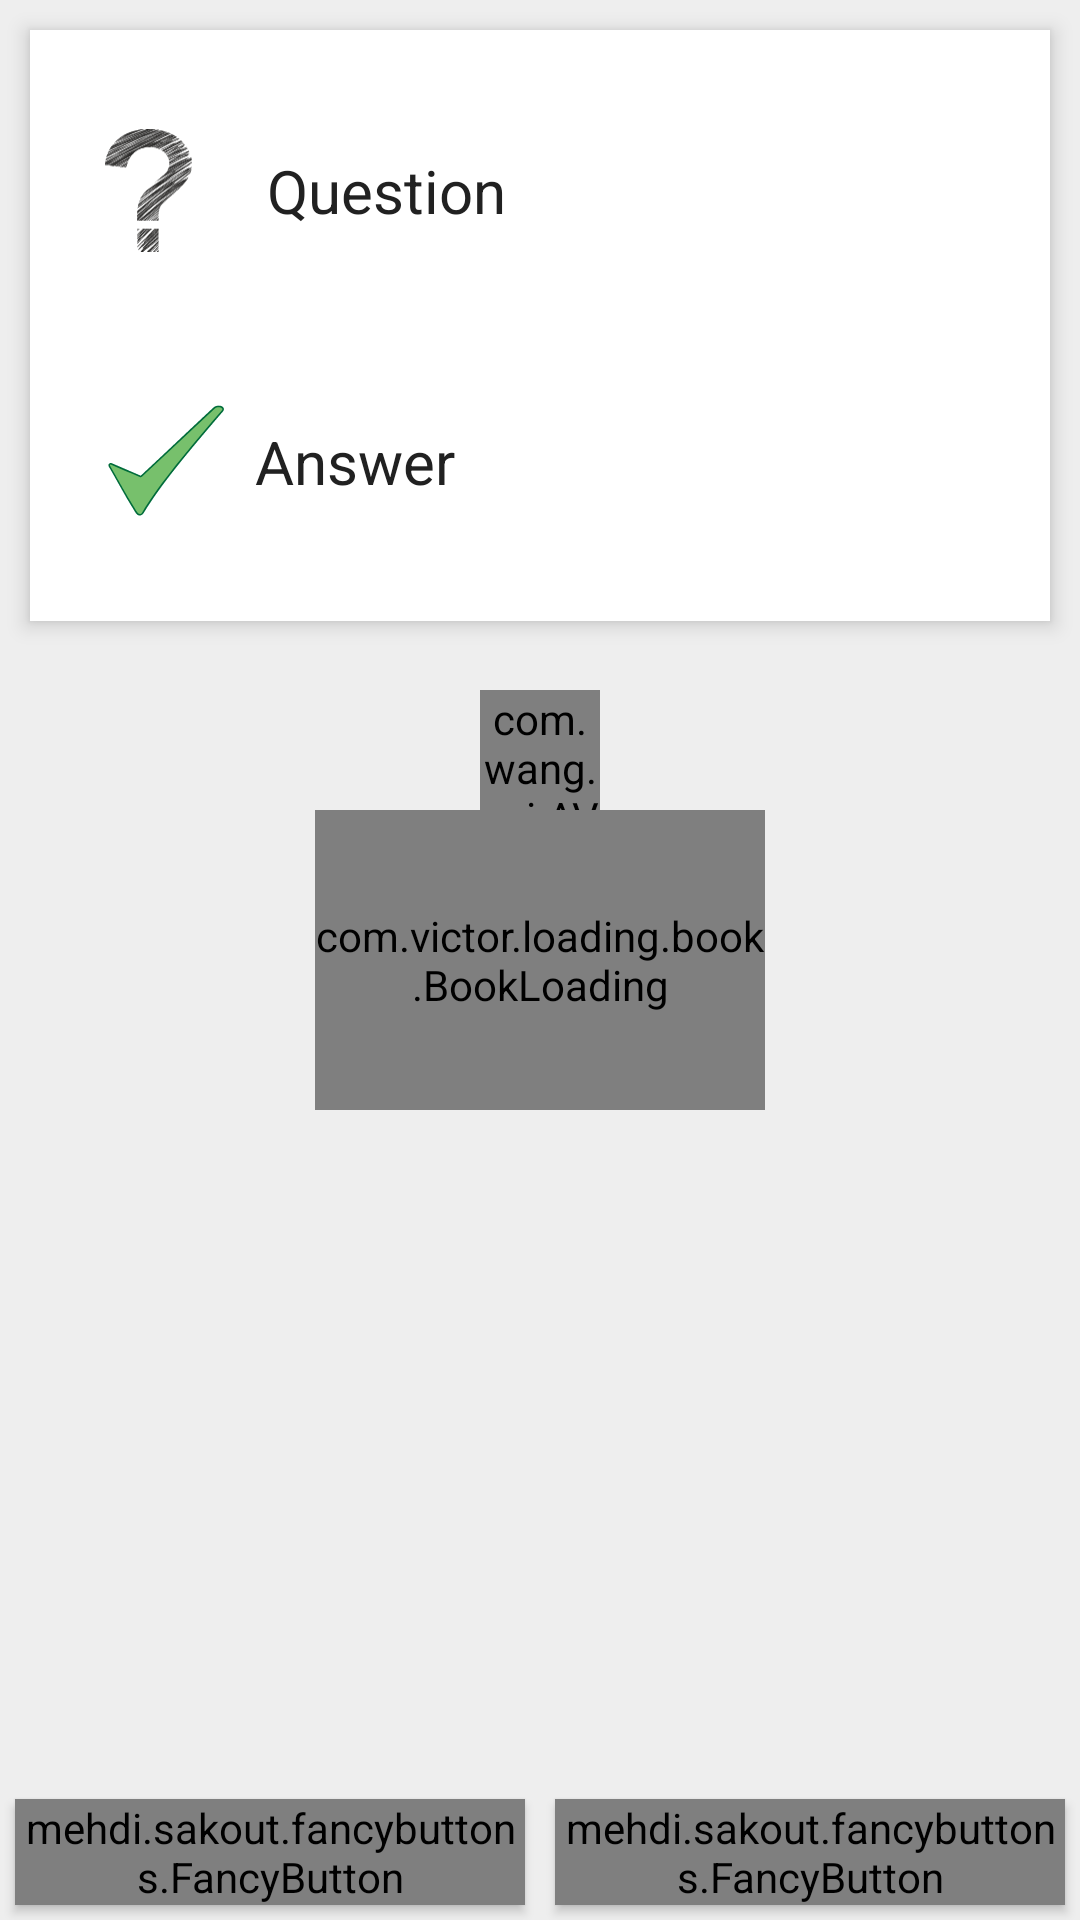

Named icons in this screenshot (1080px×1920px) and their centers, [x,y]:
ticks: [166,460]
